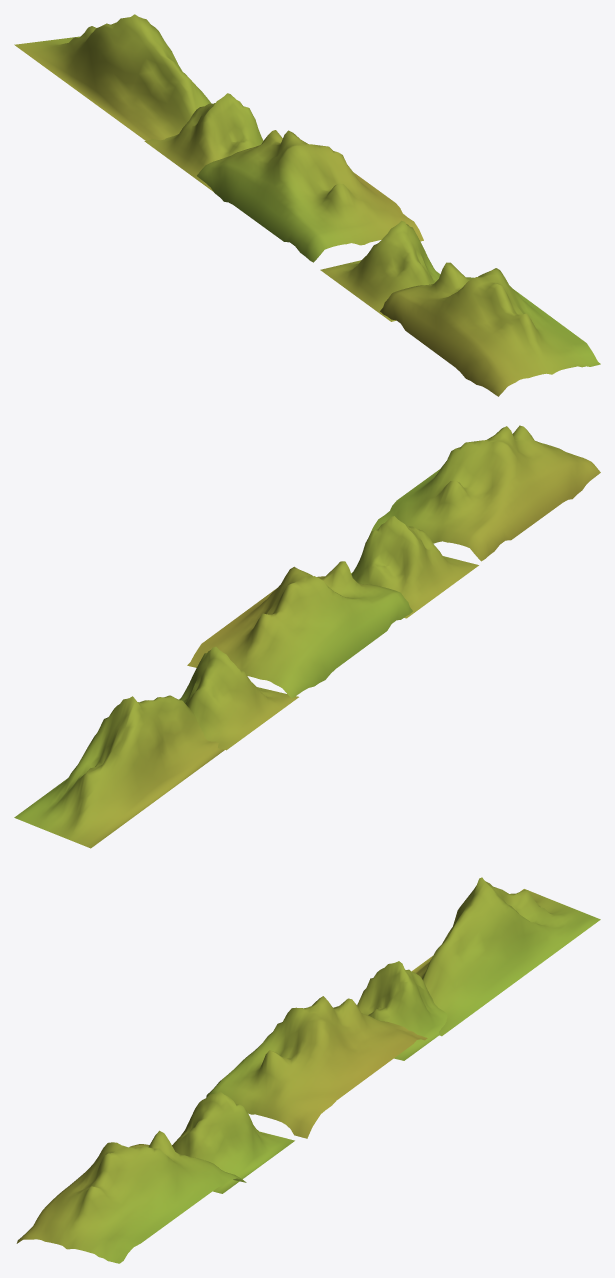
The model's file is Mountain.fbx.
The picture shows the model from 3 angles, top to bottom: view 1: azimuth 30°, elevation 25°; view 2: azimuth 150°, elevation 25°; view 3: azimuth 330°, elevation 25°; orthographic projection. The views are drawn at different scales.
Visible parts, largest first — view 1: Mountain05, Mountain04, Mountain02, Mountain01, Mountain03; view 2: Mountain05, Mountain02, Mountain04, Mountain01, Mountain03; view 3: Mountain04, Mountain05, Mountain02, Mountain01, Mountain03.
Boxes of the visible parts, x1,y1,x2,y2 form: Mountain05: (380,262,600,396); Mountain04: (197,130,423,262); Mountain02: (14,14,211,140); Mountain01: (320,220,440,321); Mountain03: (144,93,263,191); Mountain05: (370,425,600,561); Mountain02: (14,695,224,848); Mountain04: (187,561,412,698); Mountain01: (351,516,478,618); Mountain03: (178,646,298,750); Mountain04: (206,996,427,1138); Mountain05: (16,1130,246,1263); Mountain02: (412,877,600,1036); Mountain01: (172,1091,294,1193); Mountain03: (357,961,447,1060).
Bounding box in the file's own units: 6736 × 4795 × 52436.
